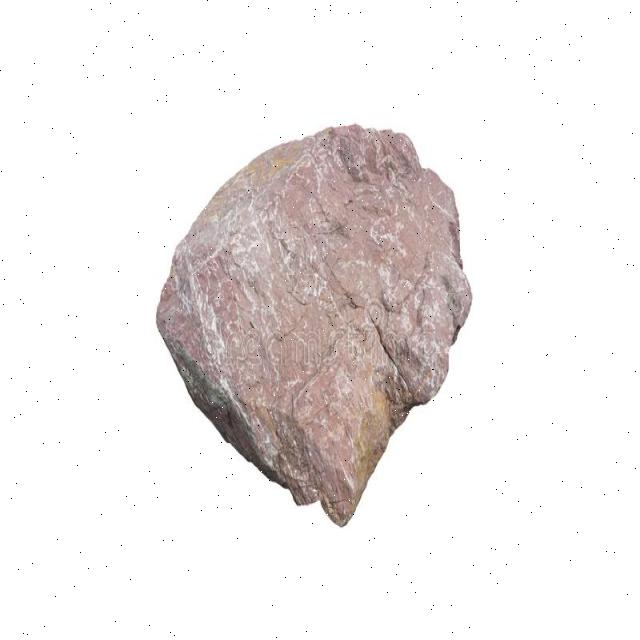Sedimentary: (156, 121, 483, 525)
